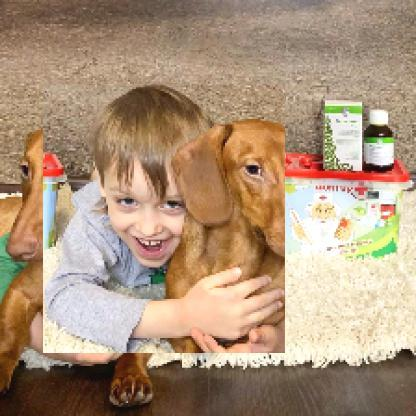child: (44, 85, 287, 356)
